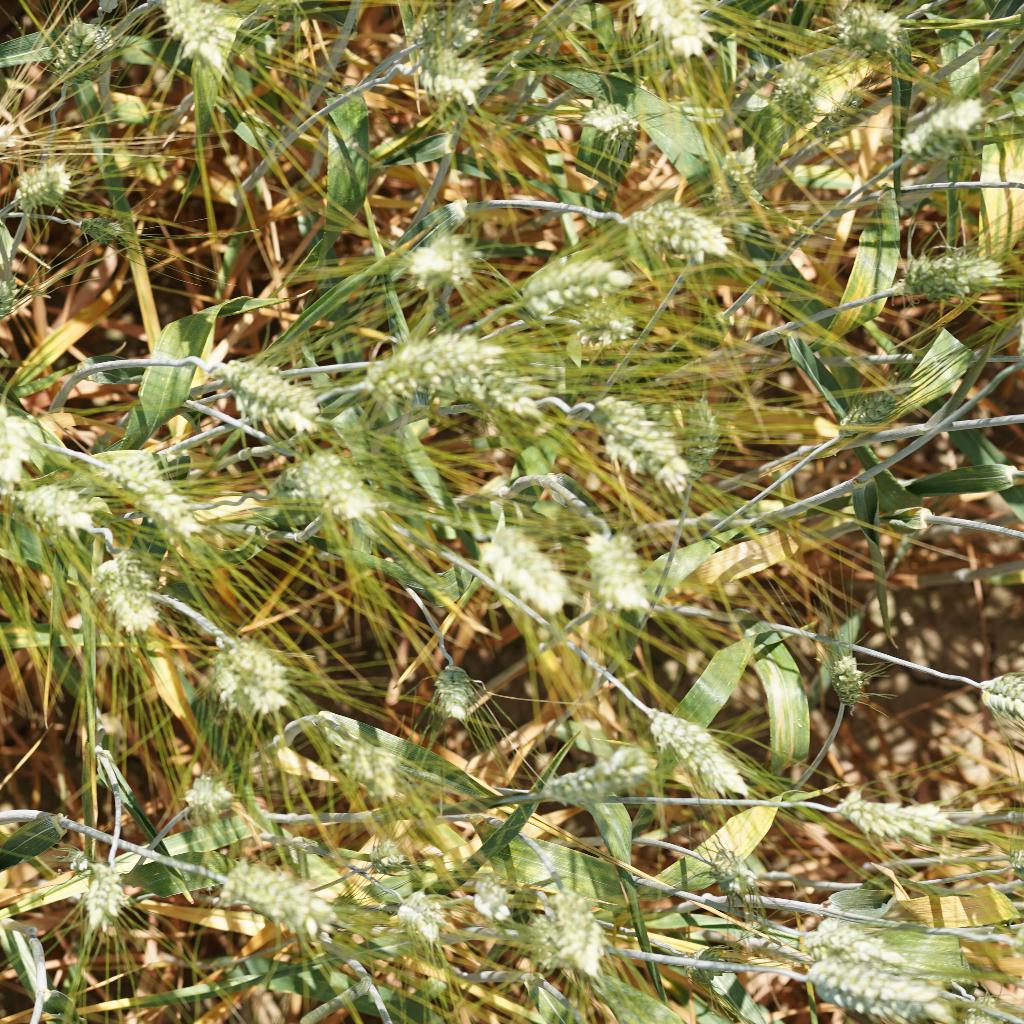0-0: (585, 388, 710, 497), (209, 338, 329, 435), (638, 707, 759, 798), (798, 953, 952, 1024), (821, 774, 961, 849), (474, 518, 571, 620), (365, 322, 488, 400), (219, 858, 342, 935), (803, 909, 929, 979), (507, 245, 634, 313), (73, 544, 161, 642), (152, 0, 250, 86), (531, 737, 638, 815), (631, 191, 739, 268), (287, 447, 388, 529), (890, 235, 1005, 307), (205, 621, 295, 712), (579, 519, 666, 613), (900, 88, 989, 167), (10, 464, 105, 538), (318, 732, 410, 803), (400, 38, 503, 101), (116, 467, 197, 545), (672, 394, 736, 492), (391, 223, 481, 290), (616, 0, 713, 62), (64, 847, 131, 936), (8, 141, 88, 215), (53, 15, 122, 93), (542, 884, 606, 967), (702, 138, 765, 222), (389, 890, 460, 963), (484, 351, 550, 428), (829, 378, 907, 440), (695, 847, 766, 915), (762, 43, 823, 122), (452, 856, 514, 933), (829, 0, 909, 58), (0, 391, 47, 484), (421, 650, 479, 725), (568, 302, 650, 352), (406, 0, 493, 44), (967, 656, 1024, 722), (583, 96, 642, 152), (818, 653, 871, 714), (172, 768, 239, 815), (361, 829, 417, 884)
